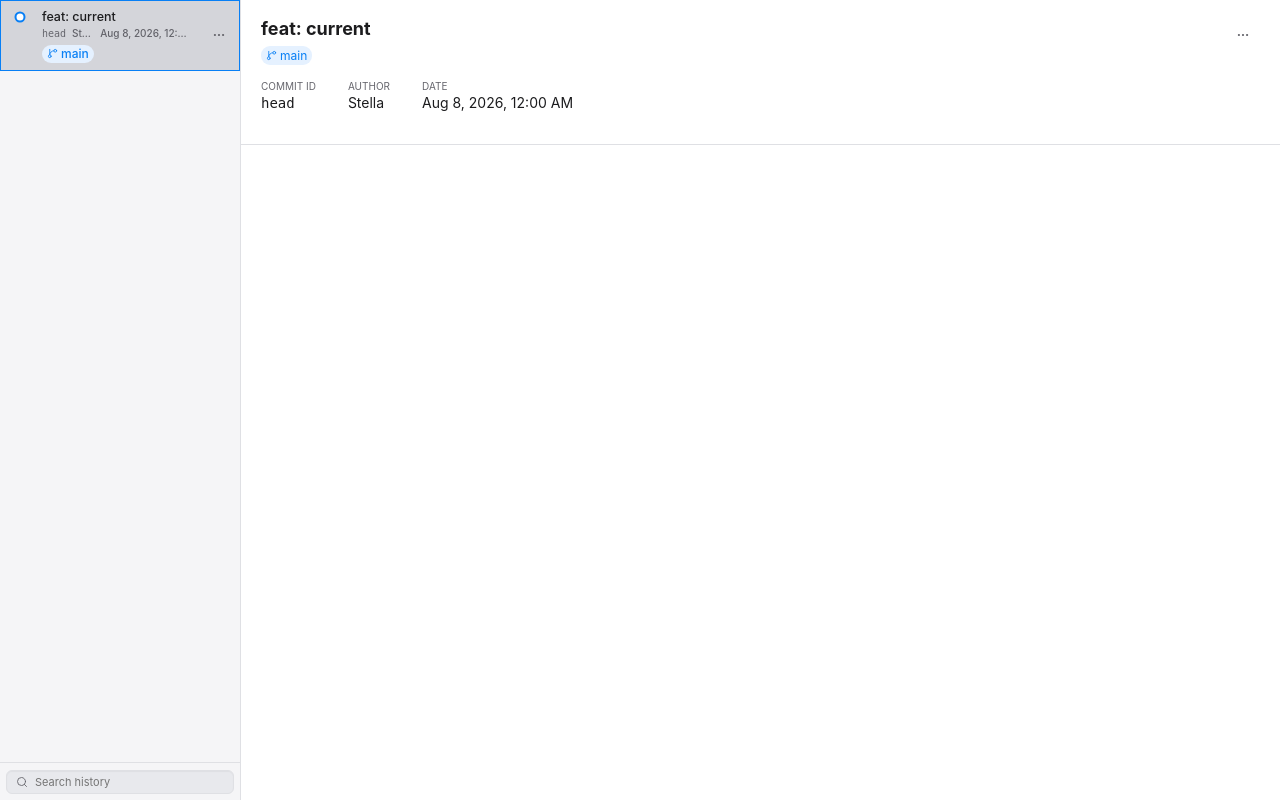
it: HistoryView › creates a local Tag from the selected commit
The image size is (1280, 800).
Step 1. Click the button named "More actions for commit head" → (219, 35), box [206,22,232,48]
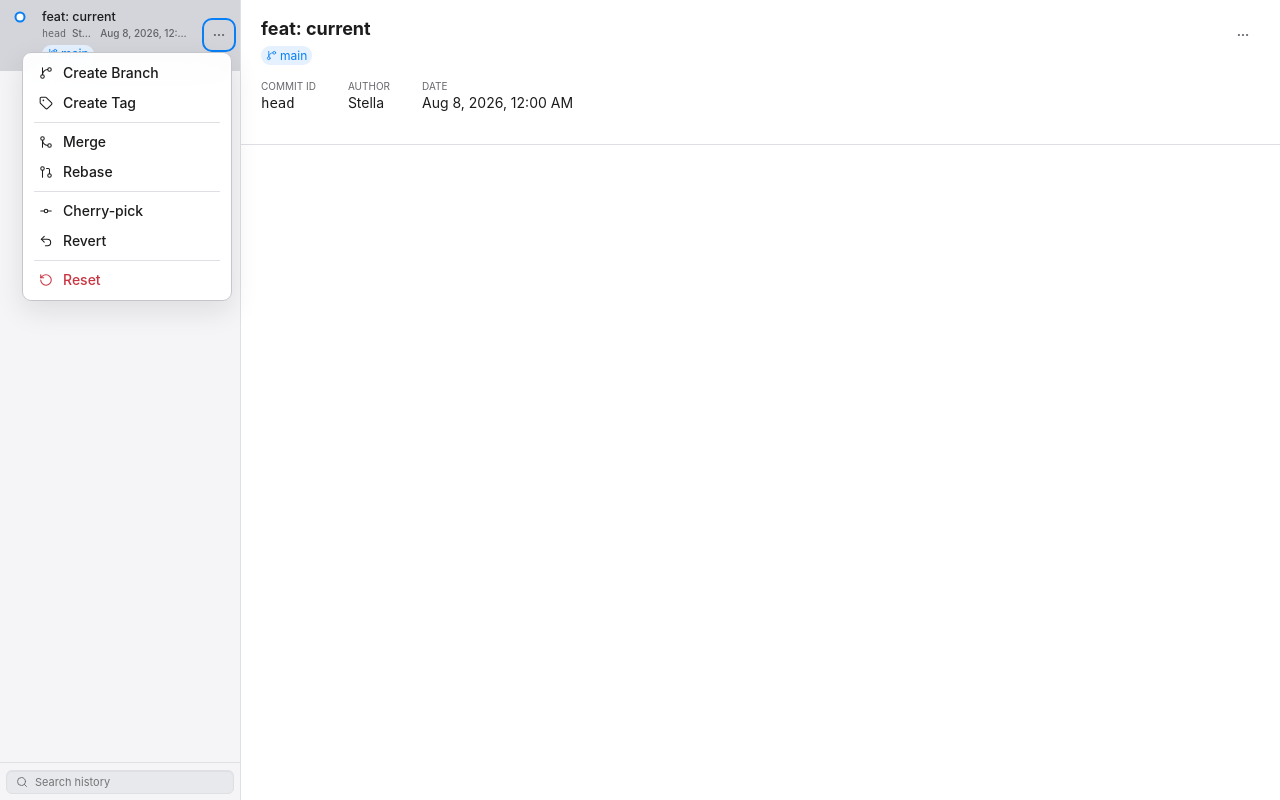
Step 2. Click the menu item "Create Tag" → (127, 103), box [28,88,226,118]
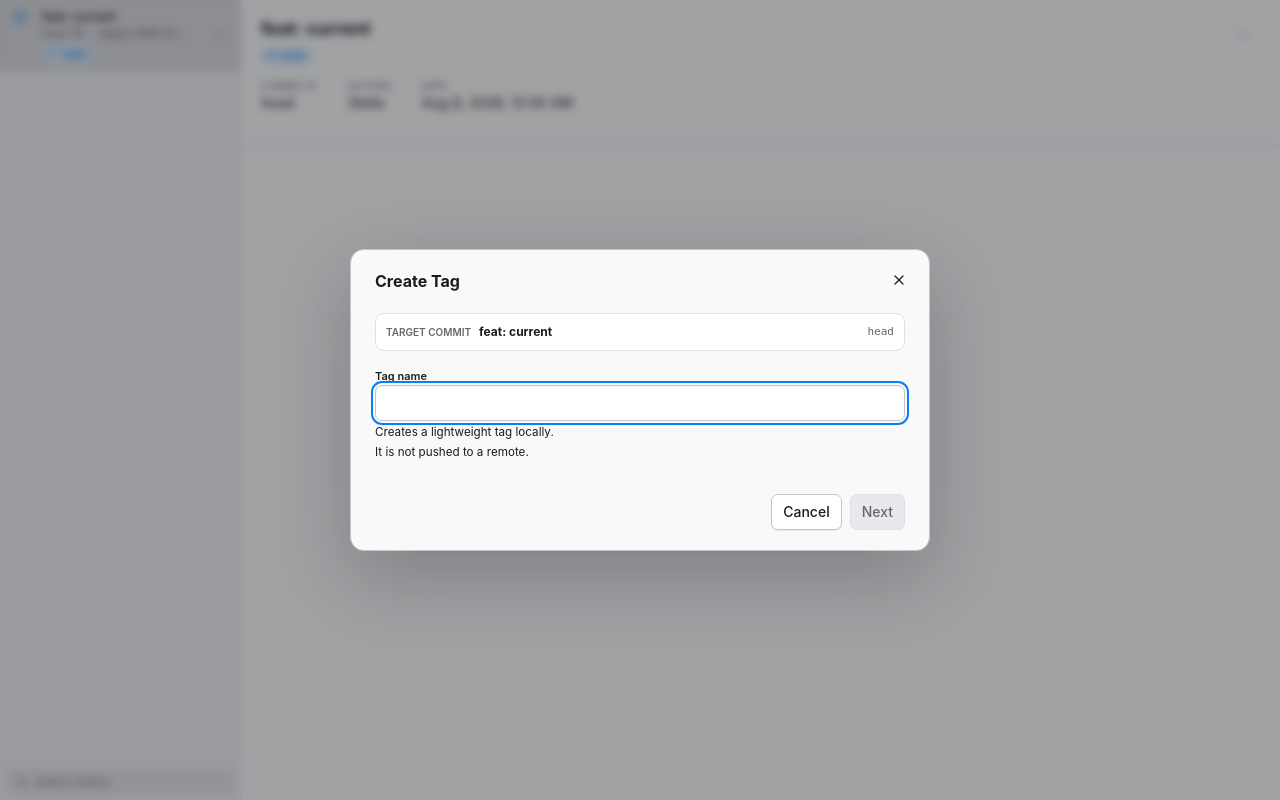
Now the text "Creates a lightweight tag locally. It is not pushed to a remote." is shown, box [375,425,554,459]
Step 3. Type "v1.0.0" into the field labelled "Tag name" → (640, 403), box [375,385,905,421]
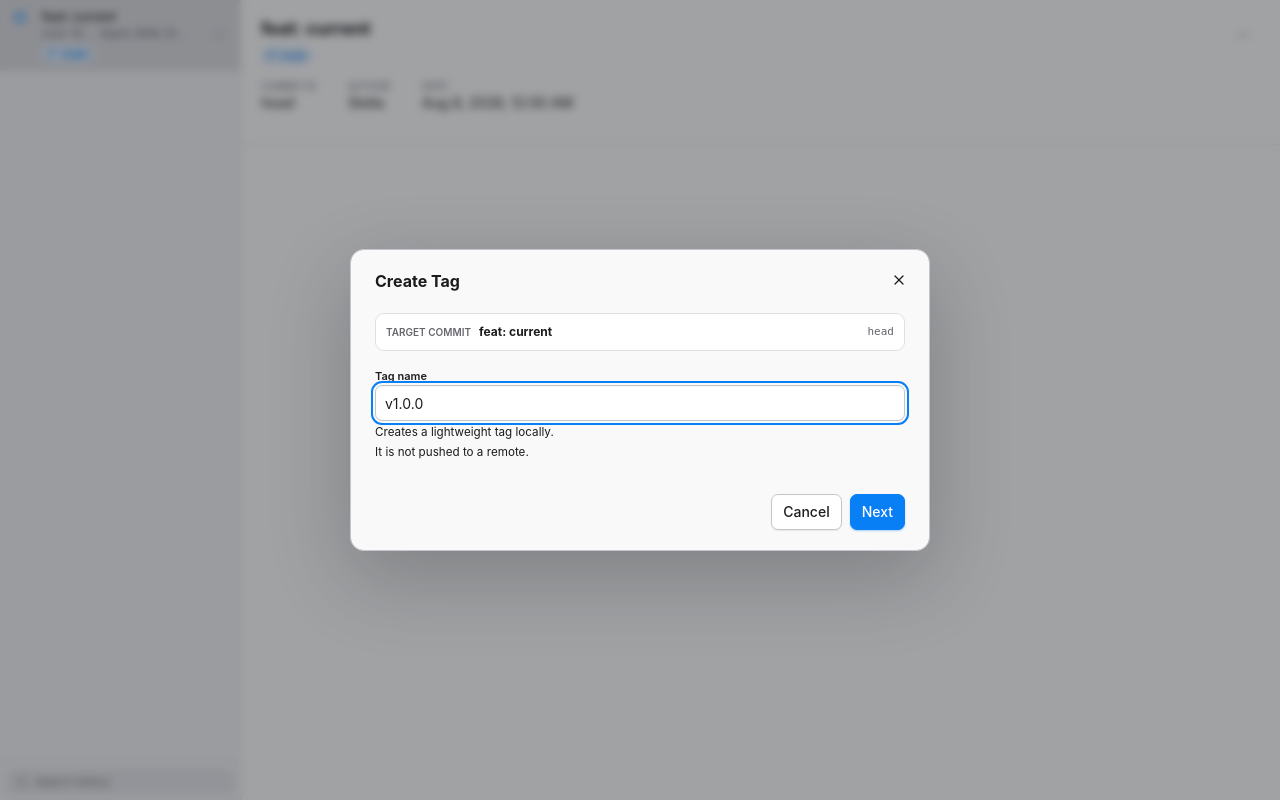
Step 4. Click the button "Next" → (877, 512), box [850,494,905,530]
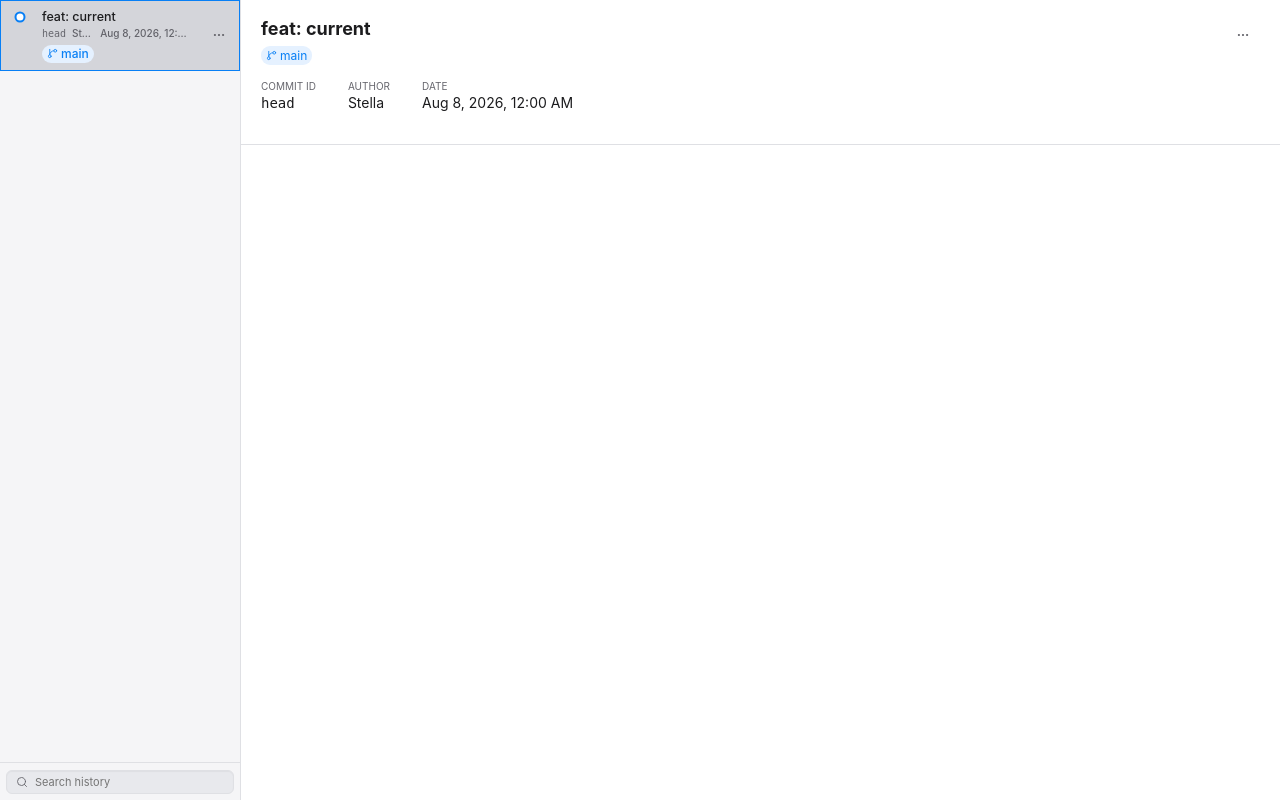
Now the heading "Create Tag" is gone
